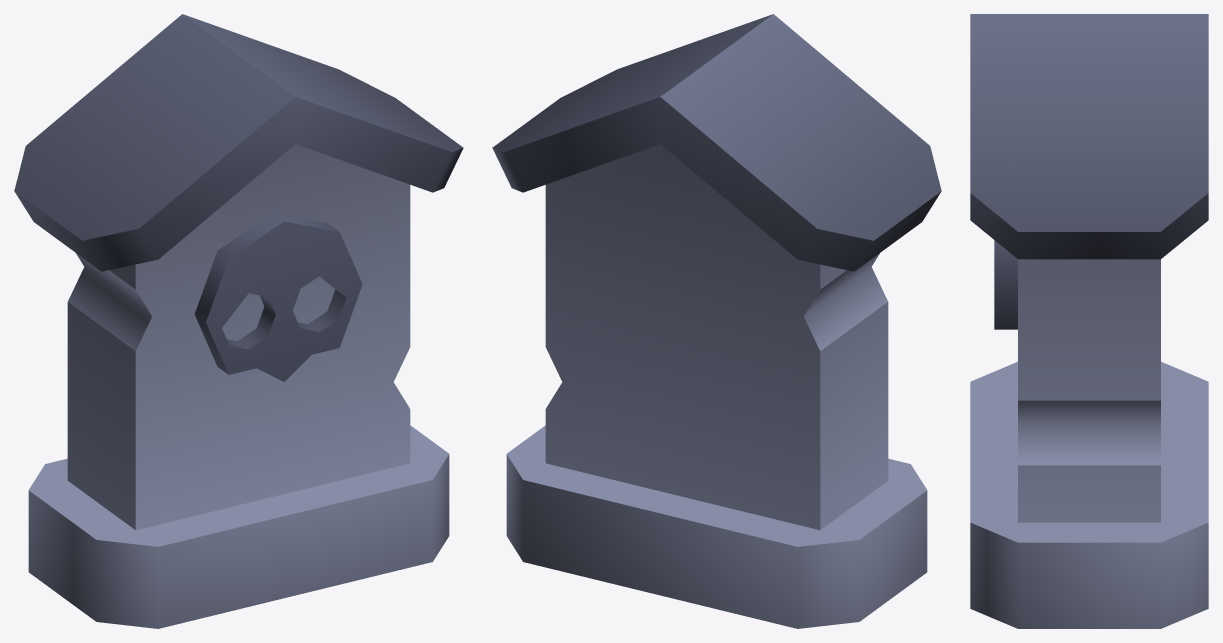
Rendered from gravestone-roof.glb.
3 views of the same model, side by side, from view 1: azimuth 30°, elevation 25°; view 2: azimuth 150°, elevation 25°; view 3: azimuth 270°, elevation 25° (orthographic). The views are drawn at different scales.
Visible parts, largest first — view 1: gravestone-roof; view 2: gravestone-roof; view 3: gravestone-roof.
Boxes of the visible parts, x1,y1,x2,y2 form: gravestone-roof: (14, 14, 463, 628); gravestone-roof: (492, 14, 941, 628); gravestone-roof: (970, 14, 1208, 628).
Size of the model in its own units: 0.4864 by 0.6076 by 0.25.
